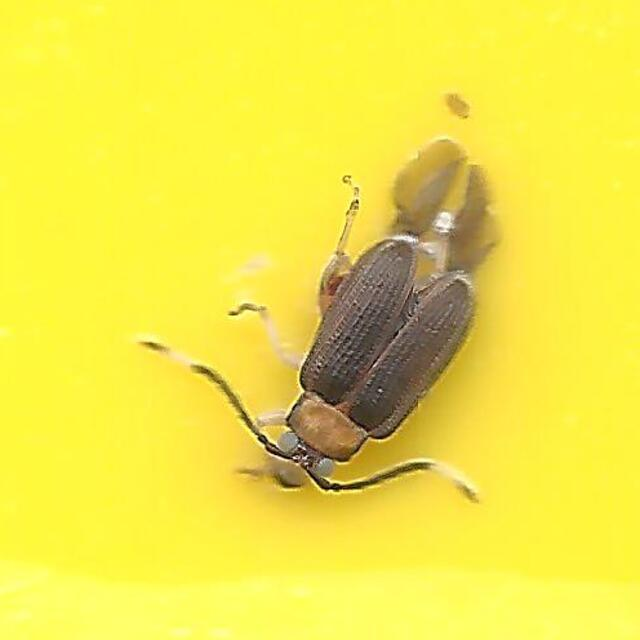Coleoptera: (129, 132, 511, 508)
